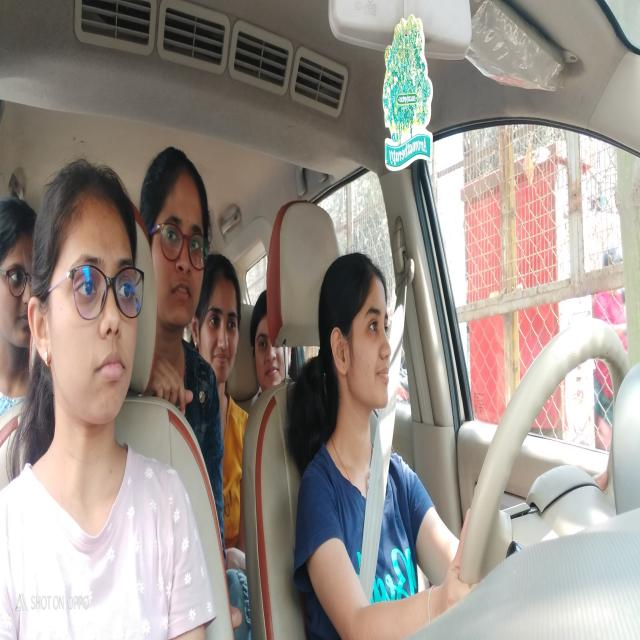person: (29, 159, 145, 440), (316, 247, 396, 429), (144, 142, 211, 332), (0, 185, 38, 353), (203, 247, 240, 387), (252, 284, 288, 394)
